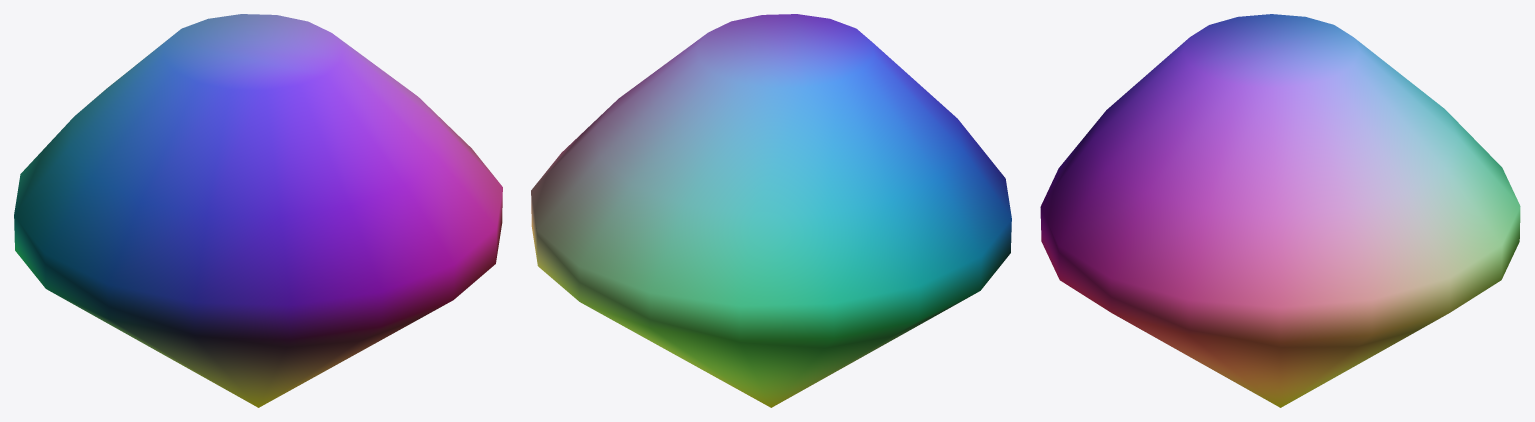
Rendered from SM_Pickup_Gem_Diamond_4.fbx.
3 renders of one model, left to right at view 1: azimuth 30°, elevation 25°; view 2: azimuth 150°, elevation 25°; view 3: azimuth 270°, elevation 25°, orthographic. The views are drawn at different scales.
Visible parts, largest first — view 1: SM_Pickup_Gem_Diamond_4; view 2: SM_Pickup_Gem_Diamond_4; view 3: SM_Pickup_Gem_Diamond_4.
Boxes of the visible parts, x1,y1,x2,y2 form: SM_Pickup_Gem_Diamond_4: [14, 14, 502, 407]; SM_Pickup_Gem_Diamond_4: [531, 14, 1011, 407]; SM_Pickup_Gem_Diamond_4: [1040, 14, 1520, 407].
Bounding box in the file's own units: 0.2766 × 0.224 × 0.2766.
